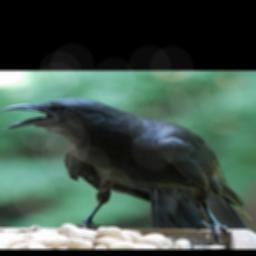Crow: (1, 96, 253, 246)
